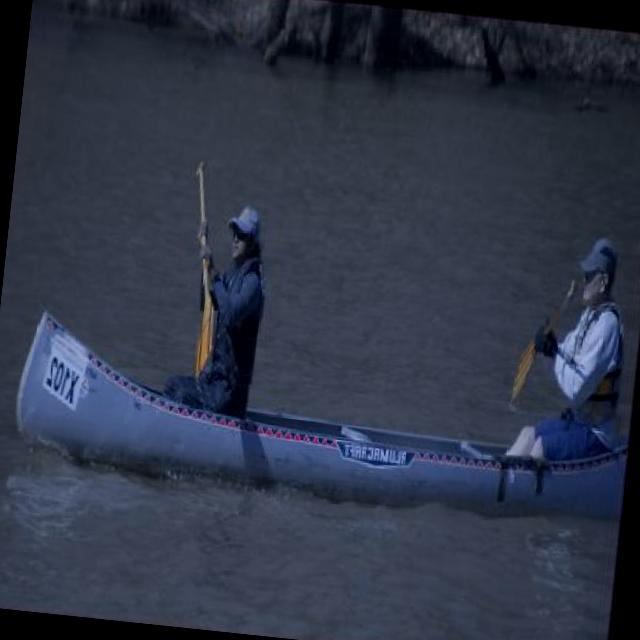Person: (502, 229, 636, 468), (160, 200, 274, 420)
